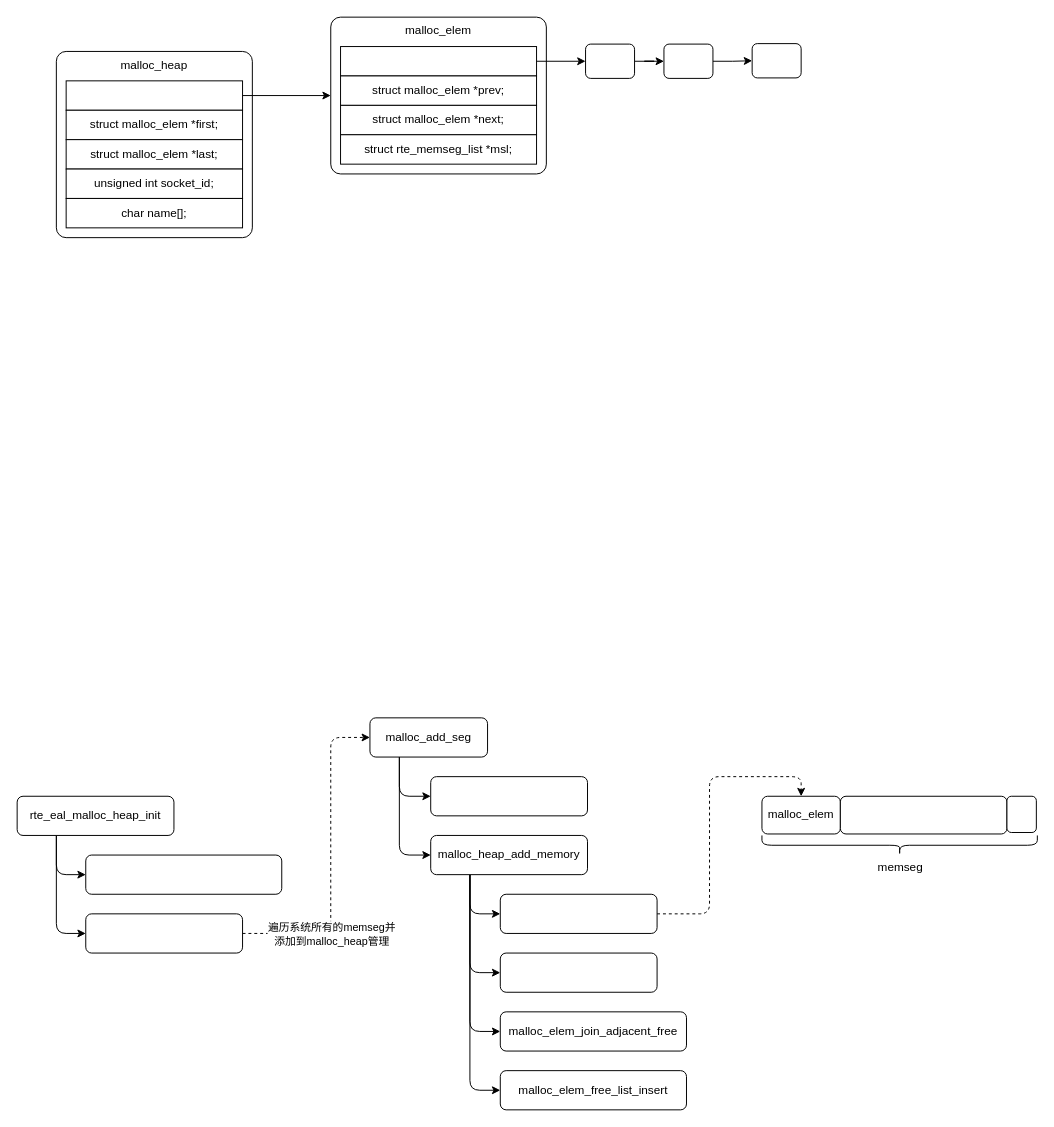
Some shapes in this 1054 by 1127 pixel diagram are drawn without their labels. The centre of each missing label's shape, as x and y in pixels:
LIST_ENTRY(malloc_elem) free_list;: the point at 438,61
malloc_elem_init: the point at 578,913
malloc_elem_insert: the point at 578,972
malloc_socket_to_heap_id: the point at 509,796
rte_memseg_contig_walk: the point at 164,933
struct malloc_elem free_head[];: the point at 154,95
tailer: the point at 1021,814
设置malloc_heap信息，包括socket_id、name: the point at 183,874
